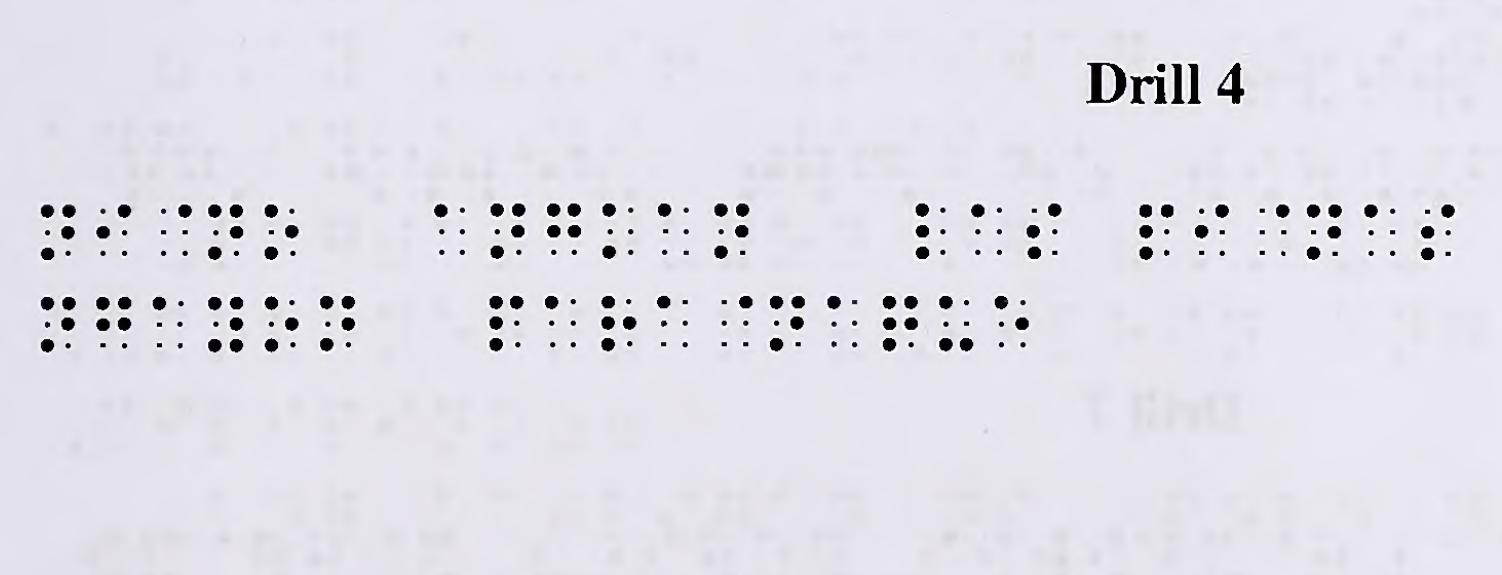a: (654, 200, 696, 259), (826, 294, 862, 356), (540, 294, 580, 348), (1362, 204, 1400, 260), (432, 204, 470, 259), (654, 294, 690, 352), (150, 296, 186, 350), (972, 200, 1002, 257)
dot_4: (160, 203, 192, 259)
dot_5: (717, 296, 753, 348)
e: (992, 292, 1032, 356)
enye: (1260, 202, 1346, 264), (208, 202, 246, 260), (769, 296, 806, 352)
g: (94, 290, 136, 352), (546, 200, 582, 259)
i: (1196, 200, 1230, 262), (98, 206, 132, 262)
k: (602, 204, 640, 258)
l: (912, 202, 956, 258)
n: (318, 292, 356, 356), (34, 294, 76, 350), (38, 204, 76, 262), (714, 202, 748, 262), (492, 200, 524, 262)
o: (264, 292, 298, 354), (262, 202, 297, 260)
p: (486, 292, 530, 352), (1138, 206, 1180, 266)
q: (884, 292, 918, 356)
r: (598, 294, 638, 350)
s: (1026, 200, 1062, 266), (1418, 202, 1456, 256)
u: (940, 294, 974, 354)
y: (210, 294, 244, 354)
